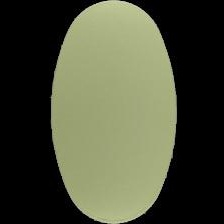50436-6667: (0, 0, 224, 224)
